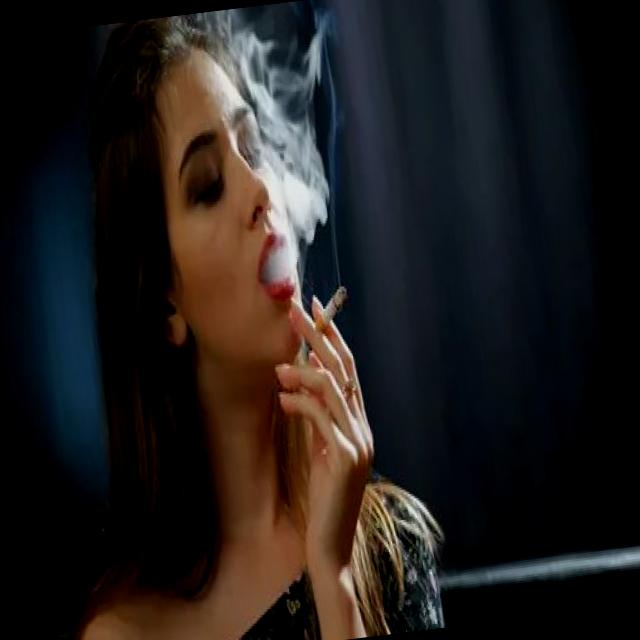smoke: (308, 282, 356, 342)
